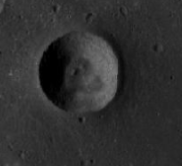crater: (19, 20, 144, 136)
